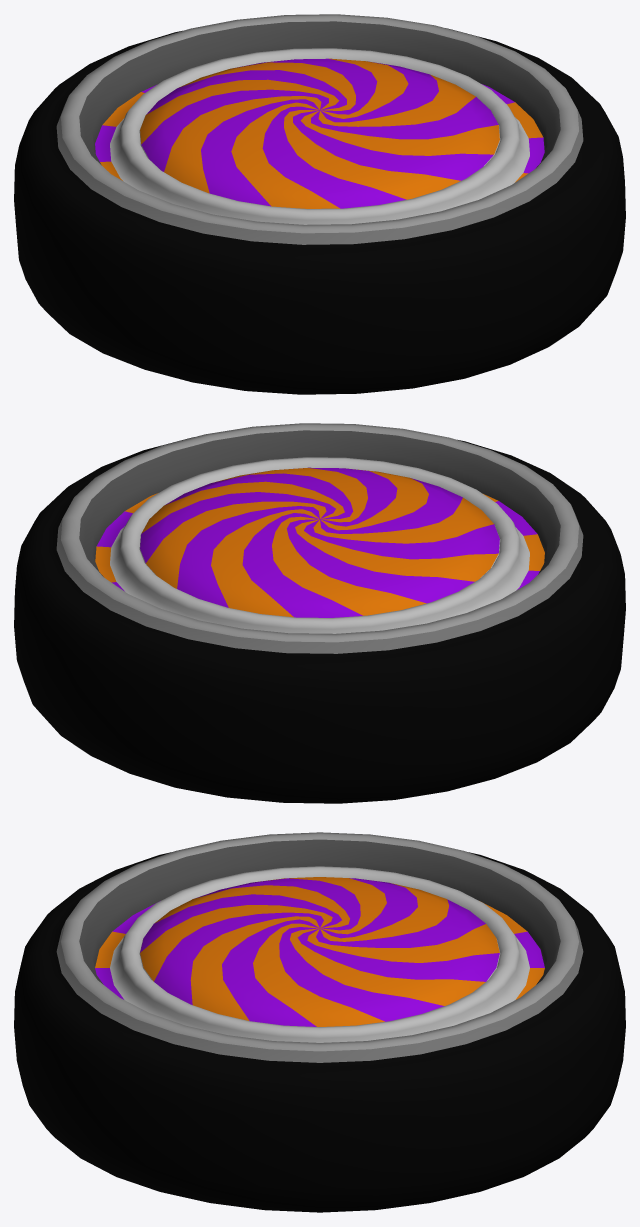
Rendered from mesh_Galaxy_Hockey_Puck.fbx.
3 views of the same model, one above another, from view 1: azimuth 30°, elevation 25°; view 2: azimuth 150°, elevation 25°; view 3: azimuth 270°, elevation 25° (orthographic).
Parts seen in each view (by area): view 1: mesh_Galaxy_Hockey_Puck; view 2: mesh_Galaxy_Hockey_Puck; view 3: mesh_Galaxy_Hockey_Puck.
Part boxes in pixels (bbox=[...]): mesh_Galaxy_Hockey_Puck: bbox=[14, 14, 625, 394]; mesh_Galaxy_Hockey_Puck: bbox=[14, 423, 625, 803]; mesh_Galaxy_Hockey_Puck: bbox=[14, 832, 625, 1212].
Bounding box in the file's own units: 2.96 × 0.8673 × 2.96.
